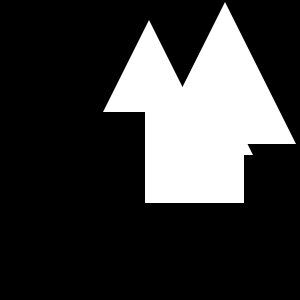circle: (145, 104, 244, 203)
triangle: (154, 2, 296, 144), (149, 51, 253, 155), (103, 20, 195, 112)
